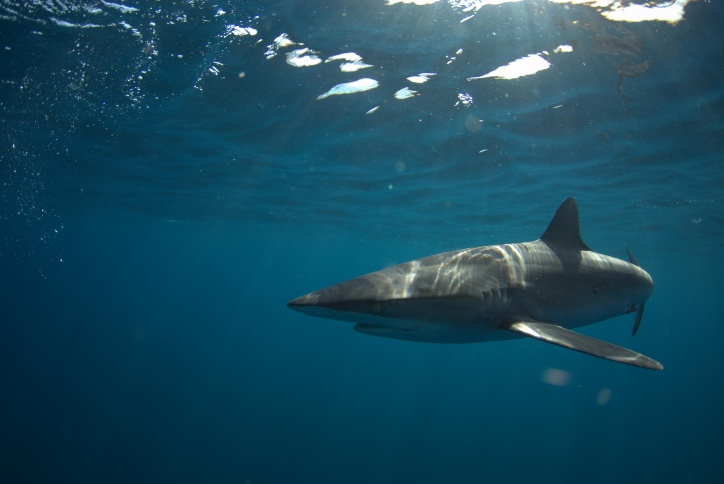Sedoso: (277, 198, 689, 381)
